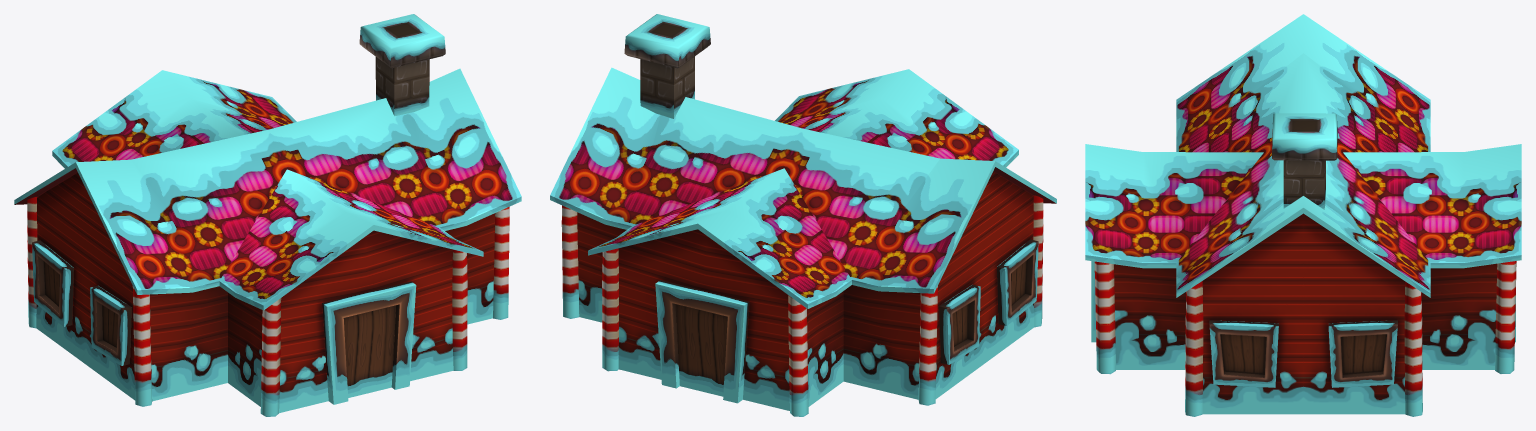
Rendered from House6.FBX.
3 renders of one model, left to right at view 1: azimuth 30°, elevation 25°; view 2: azimuth 150°, elevation 25°; view 3: azimuth 270°, elevation 25°, orthographic. The views are drawn at different scales.
Visible parts, largest first — view 1: House6; view 2: House6; view 3: House6.
Boxes of the visible parts, box(x1,y1,x2,y2) form: House6: box(14, 14, 521, 416); House6: box(550, 14, 1056, 416); House6: box(1085, 14, 1521, 416).
Size of the model in its own units: 251 by 161 by 239.
Materials: 1 (1 with a texture image).
